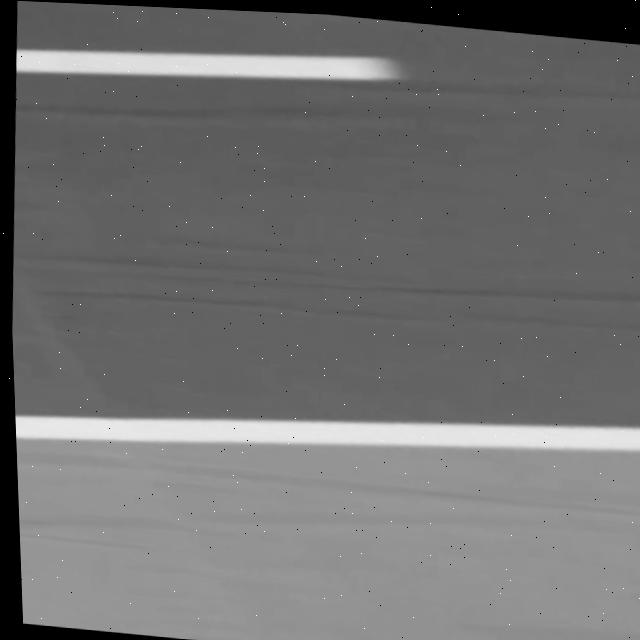center: (15, 48, 401, 80)
right: (15, 415, 640, 451)
